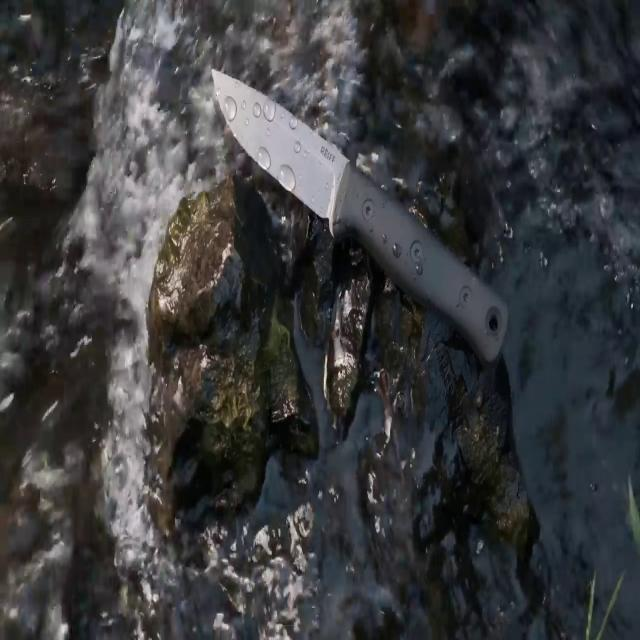Knife: (210, 64, 514, 377)
